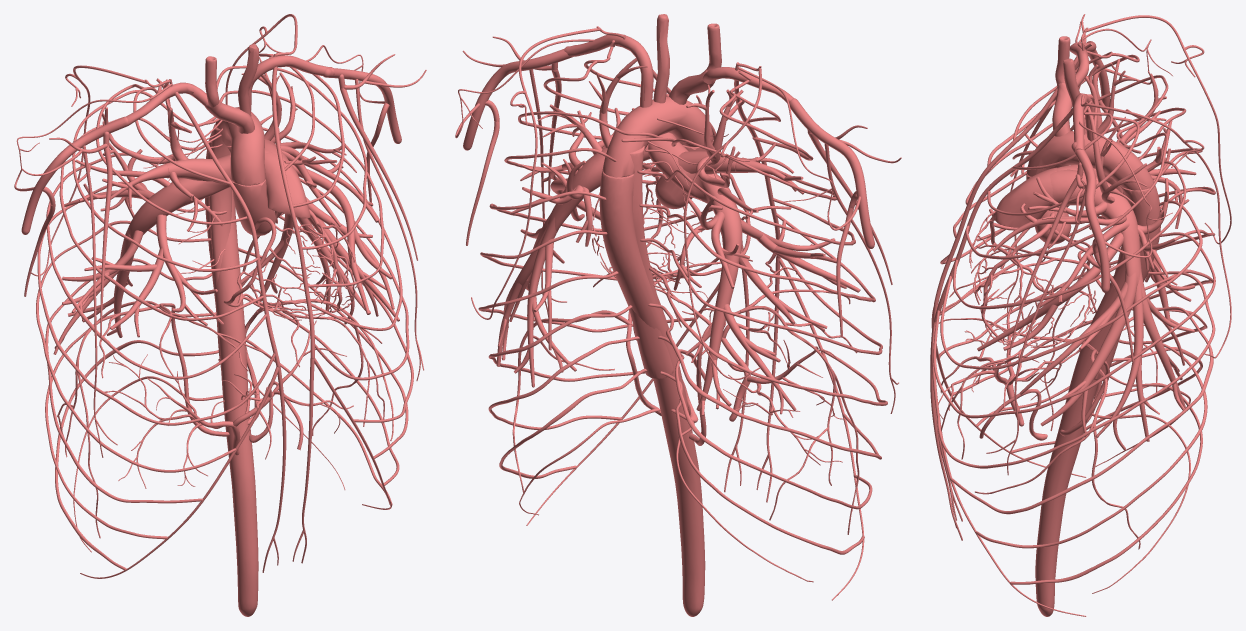
File: arteres-thorax.hi.glb
3 renders of one model, left to right at view 1: azimuth 30°, elevation 25°; view 2: azimuth 150°, elevation 25°; view 3: azimuth 270°, elevation 25°, orthographic. The views are drawn at different scales.
Parts seen in each view (by area): view 1: FJ1961, FJ3427, FJ1975, FJ3019, FJ3411, FJ2966, FJ1931, FJ2268, FJ1972, FJ1937, FJ3413, FJ2896 (+29 smaller); view 2: FJ1961, FJ3427, FJ1975, FJ3411, FJ1931, FJ3019, FJ2268, FJ3479, FJ2216, FJ3008, FJ2924, FJ2232 (+22 smaller); view 3: FJ1975, FJ3427, FJ1961, FJ3411, FJ2924, FJ2966, FJ2883, FJ2216, FJ1937, FJ2896, FJ2921, FJ2284 (+26 smaller).
Part boxes in pixels (<box>): FJ1961: <box>36,90,275,570</box>; FJ3427: <box>205,139,258,616</box>; FJ1975: <box>205,65,413,505</box>; FJ3019: <box>126,149,268,237</box>; FJ3411: <box>210,107,265,185</box>; FJ2966: <box>264,152,310,218</box>; FJ1931: <box>209,123,231,358</box>; FJ2268: <box>21,116,127,234</box>; FJ1972: <box>272,66,314,358</box>; FJ1937: <box>174,92,280,367</box>; FJ3413: <box>231,179,275,236</box>; FJ2896: <box>292,165,370,314</box>; FJ1961: <box>621,137,887,582</box>; FJ3427: <box>599,169,705,616</box>; FJ1975: <box>478,111,719,515</box>; FJ3411: <box>603,96,713,177</box>; FJ1931: <box>628,146,673,378</box>; FJ3019: <box>648,132,742,263</box>; FJ2268: <box>789,98,874,248</box>; FJ3479: <box>564,34,653,107</box>; FJ2216: <box>463,45,575,150</box>; FJ3008: <box>696,262,738,410</box>; FJ2924: <box>547,144,650,230</box>; FJ2232: <box>471,28,600,319</box>; FJ1975: <box>933,132,1215,593</box>; FJ3427: <box>1035,185,1160,616</box>; FJ1961: <box>939,75,1215,468</box>; FJ3411: <box>1026,131,1153,190</box>; FJ2924: <box>1050,169,1141,284</box>; FJ2966: <box>995,167,1056,227</box>; FJ2883: <box>1040,267,1137,426</box>; FJ2216: <box>1071,142,1109,292</box>; FJ1937: <box>934,56,1078,305</box>; FJ2896: <box>977,232,1123,351</box>; FJ2921: <box>1095,279,1143,437</box>; FJ2284: <box>1084,15,1231,244</box>.
Size of the model in its own units: 0.3237 by 0.4269 by 0.2065.
